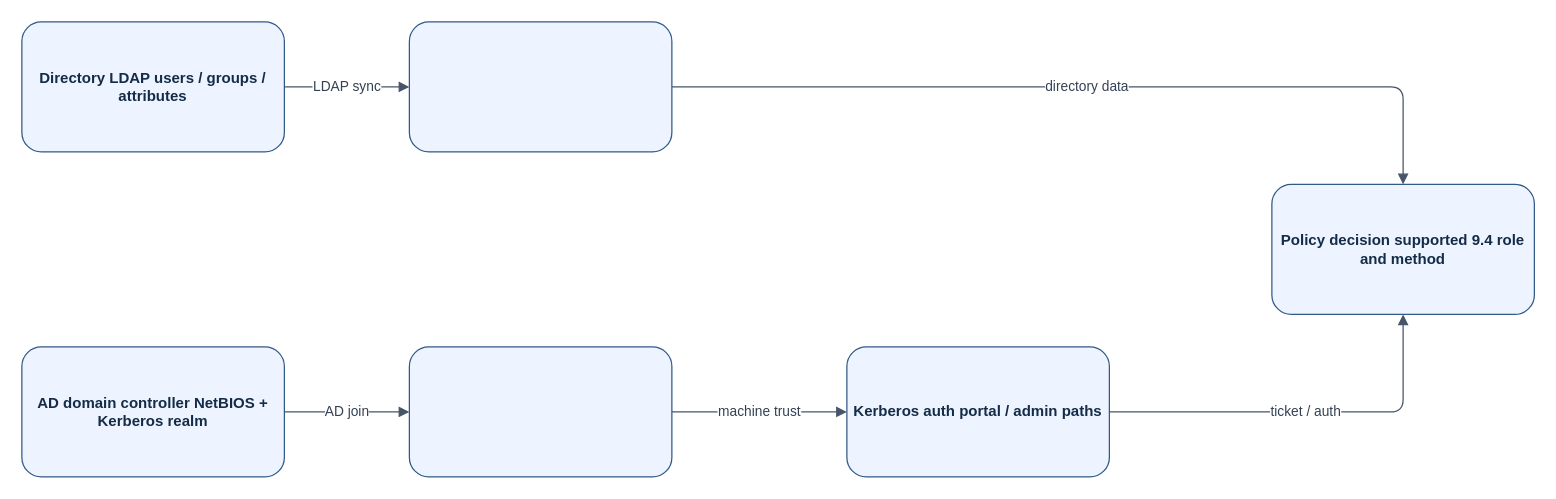
This 1556x499 diagram has some shape labels left out. The centre of each missing label's shape, as x and y in pixels:
"FortiNAC LDAP sync directory lookup" goes at pixel 540 86.
"Winbind join credentials or keytab" goes at pixel 540 411.
